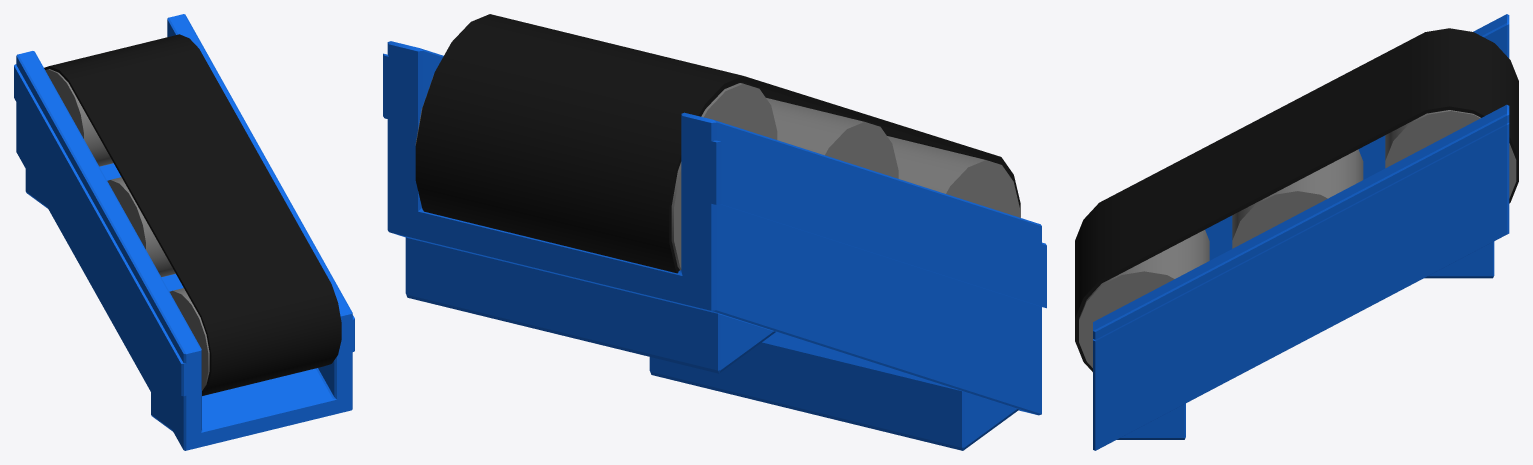
The model's file is conveyor-1x2-angled.fbx.
3 views of the same model, side by side, from view 1: azimuth 30°, elevation 25°; view 2: azimuth 150°, elevation 25°; view 3: azimuth 270°, elevation 25° (orthographic). The views are drawn at different scales.
Visible parts, largest first — view 1: belt, case, roller.001, roller.002, roller; view 2: case, belt, Cube, Cube.001, roller, roller.001, roller.002; view 3: case, belt, roller, roller.001, roller.002, Cube, Cube.001.
Part boxes in pixels (x1=…): belt: x1=44, y1=34, x2=341, y2=395; case: x1=14, y1=14, x2=354, y2=450; roller.001: x1=107, y1=177, x2=175, y2=277; roller.002: x1=45, y1=69, x2=113, y2=166; roller: x1=169, y1=288, x2=209, y2=390; case: x1=383, y1=41, x2=1046, y2=415; belt: x1=415, y1=14, x2=1020, y2=273; Cube: x1=405, y1=237, x2=775, y2=373; Cube.001: x1=649, y1=342, x2=1019, y2=450; roller: x1=887, y1=136, x2=1019, y2=217; roller.001: x1=766, y1=98, x2=898, y2=178; roller.002: x1=415, y1=78, x2=777, y2=270; case: x1=1093, y1=14, x2=1509, y2=450; belt: x1=1075, y1=28, x2=1518, y2=371; roller: x1=1079, y1=230, x2=1209, y2=367; roller.001: x1=1232, y1=149, x2=1363, y2=248; roller.002: x1=1385, y1=110, x2=1516, y2=198; Cube: x1=1424, y1=241, x2=1494, y2=278; Cube.001: x1=1117, y1=403, x2=1185, y2=439.
Size of the model in its own units: 103 by 155 by 185.
